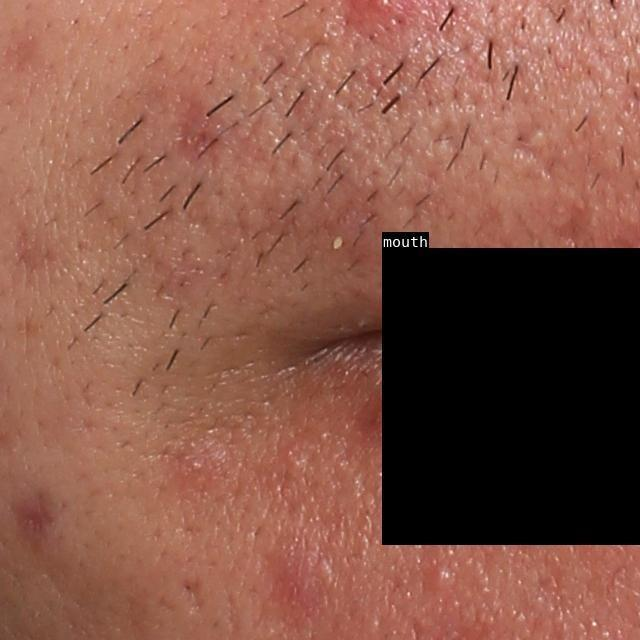atrophic_scar: (172, 81, 230, 170), (545, 200, 597, 257), (179, 575, 211, 623)
